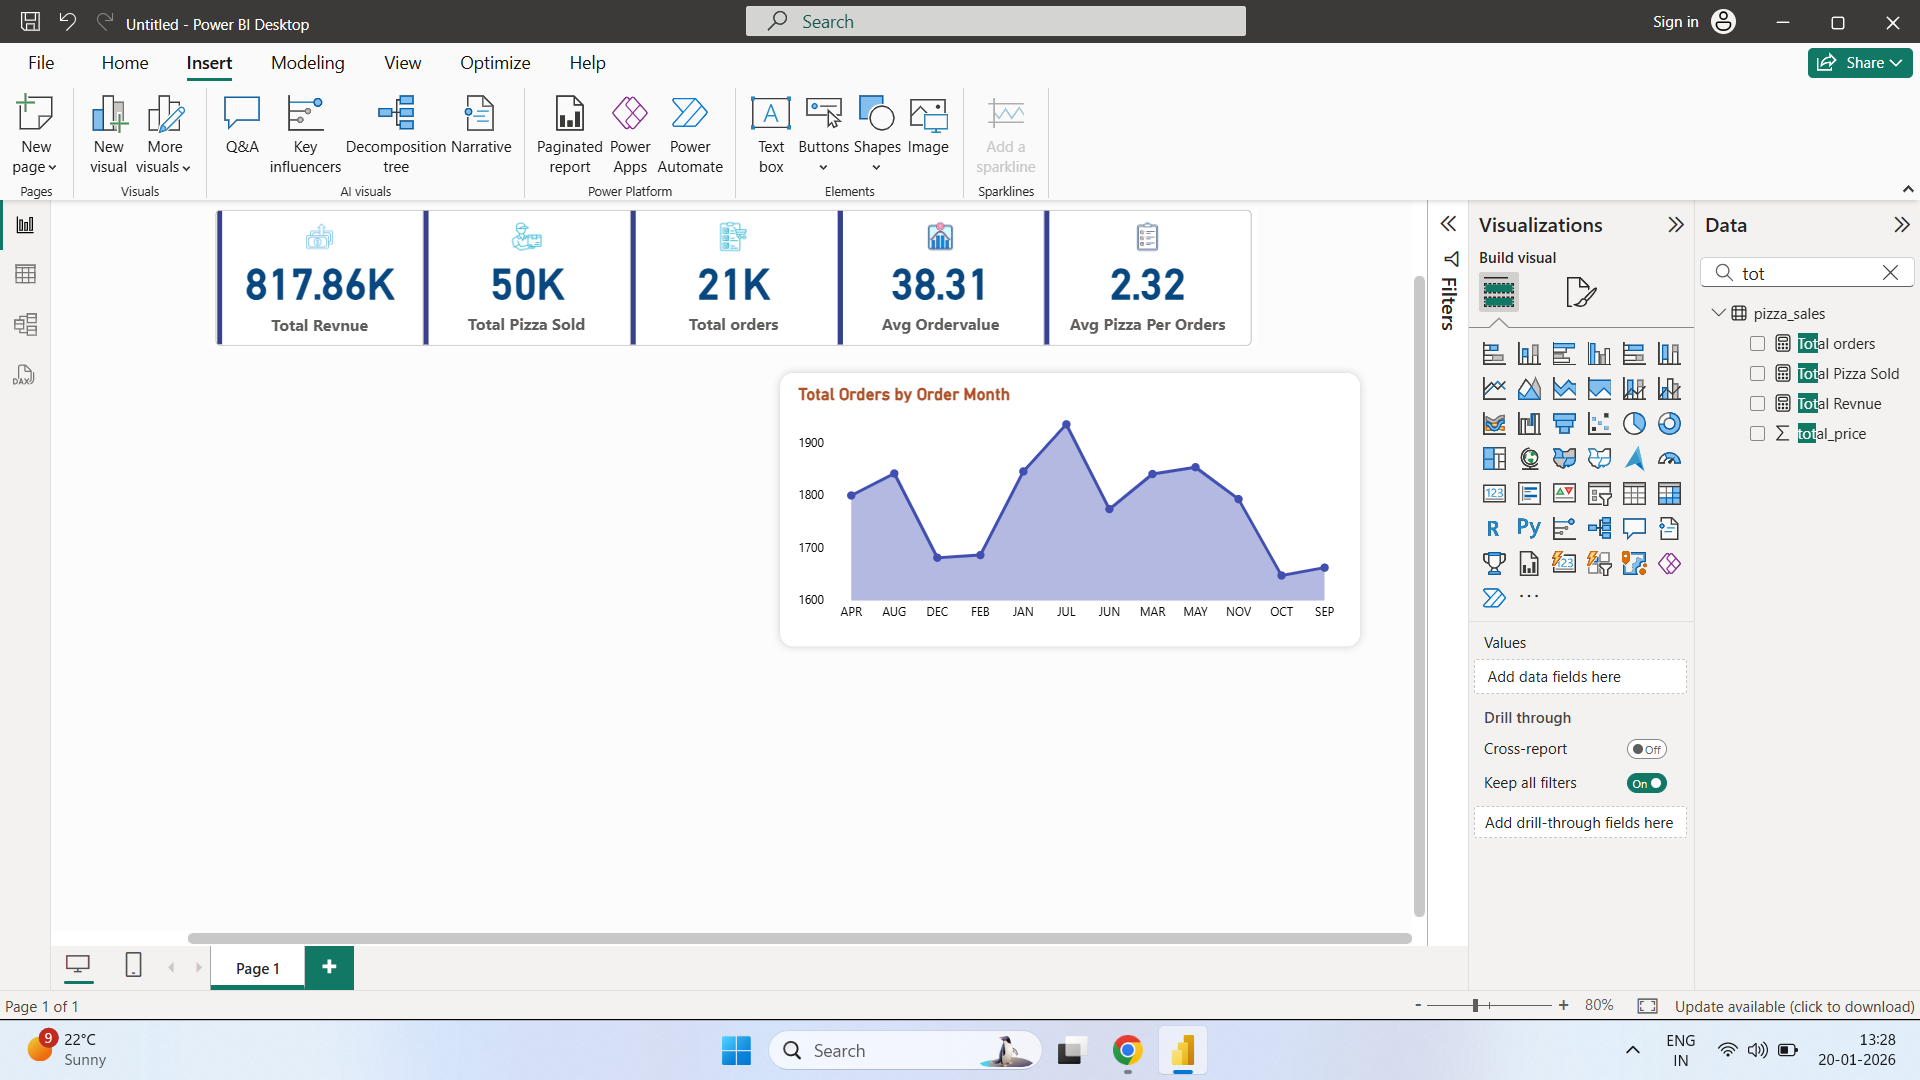

Layout of this report page (visuals, bound fields, positions):
{"tool":"powerbi","page":{"name":"Home1","canvas":[1500,850],"ordinal":0},"visuals":[{"type":"cardVisual","fields":{"Data":["pizza_sales.Total Revnue","pizza_sales.Total Pizza Sold","pizza_sales.Total orders","pizza_sales.Avg Ordervalue","pizza_sales.Avg Pizza Per Orders"]},"box":[347.5,80,1143.8,130],"z":0},{"type":"shape","box":[10,3.8,1481.2,67.5],"z":1000},{"type":"textbox","box":[486.2,0,332.5,55],"z":2000},{"type":"textbox","box":[617.5,46.2,115,25],"z":3000},{"type":"shape","box":[895,220,596.2,275],"z":4000},{"type":"areaChart","title":"Total Orders by Order Month","fields":{"Category":["pizza_sales.Order Month"],"Y":["pizza_sales.Total orders"]},"box":[920,237.5,553.8,240],"z":5000},{"type":"shape","box":[10,80,315,740],"z":6000},{"type":"shape","box":[345,508.8,317.5,311.2],"z":7000},{"type":"shape","box":[1057.5,508.8,433.8,311.2],"z":8000},{"type":"shape","box":[673.8,508.8,370,311.2],"z":9000},{"type":"donutChart","title":"% of Sales by Pizza Category","fields":{"Category":["pizza_sales.pizza_category"],"Y":["Sum(pizza_sales.total_price)"]},"box":[357.5,520,281.2,287.5],"z":10000},{"type":"donutChart","title":"% of Sales by Pizza Category","fields":{"Category":["pizza_sales.pizza_size"],"Y":["pizza_sales.Total orders"]},"box":[685,520,348.8,287.5],"z":11000},{"type":"funnel","fields":{"Category":["pizza_sales.pizza_category"],"Y":["pizza_sales.Total Pizza Sold"]},"box":[1078.8,520,391.2,287.5],"z":12000},{"type":"shape","box":[347.5,220,547.5,273.8],"z":13000},{"type":"columnChart","fields":{"Category":["pizza_sales.Order Day"],"Y":["pizza_sales.Total orders"]},"box":[358.8,237.5,520,240],"z":14000},{"type":"textbox","box":[10,357.5,315,50],"z":15000},{"type":"textbox","box":[15,410,306.2,171.2],"z":16000},{"type":"textbox","box":[10,591.2,315,50],"z":17000},{"type":"textbox","box":[10,641.2,315,166.2],"z":18000},{"type":"slicer","title":"Pizza Category","fields":{"Values":["pizza_sales.pizza_category"]},"box":[1011.2,6.2,190,61.2],"z":19000},{"type":"slicer","title":"Pizza Category","fields":{"Values":["pizza_sales.order_date"]},"box":[1216.2,10,257.5,55],"z":20000},{"type":"pageNavigator","box":[17.5,110,302.5,66.2],"z":21000},{"type":"pageNavigator","box":[16.2,180,303.8,71.2],"z":22000},{"type":"image","box":[232.5,193.8,66.2,43.8],"z":23000},{"type":"image","box":[31.2,120,67.5,50],"z":24000},{"type":"image","box":[31.2,192.5,47.5,45],"z":25000}]}

Visuals, with their boxes on the page's 1500x850 design canvas (x1, y1, x2, y2). These are canvas units, not pixel positions in the 1920x1080 screenshot, which may show the page scaled, cropped or inside an application window:
cardVisual - pizza_sales.Total Revnue x pizza_sales.Total Pizza Sold: [348, 80, 1491, 210]
shape: [10, 4, 1491, 71]
textbox: [486, 0, 819, 55]
textbox: [618, 46, 732, 71]
shape: [895, 220, 1491, 495]
"Total Orders by Order Month" areaChart: [920, 238, 1474, 478]
shape: [10, 80, 325, 820]
shape: [345, 509, 662, 820]
shape: [1058, 509, 1491, 820]
shape: [674, 509, 1044, 820]
"% of Sales by Pizza Category" donutChart: [358, 520, 639, 808]
"% of Sales by Pizza Category" donutChart: [685, 520, 1034, 808]
funnel - pizza_sales.pizza_category x pizza_sales.Total Pizza Sold: [1079, 520, 1470, 808]
shape: [348, 220, 895, 494]
columnChart - pizza_sales.Order Day x pizza_sales.Total orders: [359, 238, 879, 478]
textbox: [10, 358, 325, 408]
textbox: [15, 410, 321, 581]
textbox: [10, 591, 325, 641]
textbox: [10, 641, 325, 807]
"Pizza Category" slicer: [1011, 6, 1201, 67]
"Pizza Category" slicer: [1216, 10, 1474, 65]
pageNavigator: [18, 110, 320, 176]
pageNavigator: [16, 180, 320, 251]
image: [232, 194, 299, 238]
image: [31, 120, 99, 170]
image: [31, 192, 79, 238]
